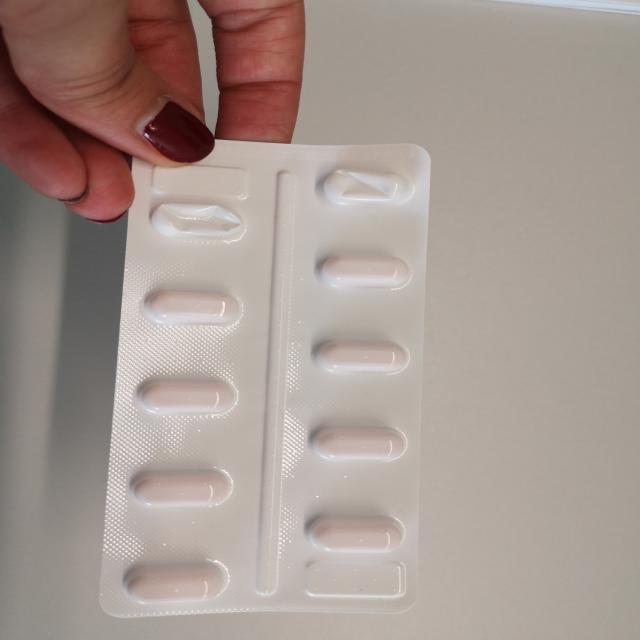Empty: (142, 192, 258, 245), (310, 163, 419, 213)
Pill: (116, 550, 239, 608), (292, 503, 413, 558), (131, 363, 241, 422), (118, 456, 239, 509), (133, 279, 250, 332), (295, 416, 419, 466), (301, 244, 417, 295), (306, 331, 422, 382)
